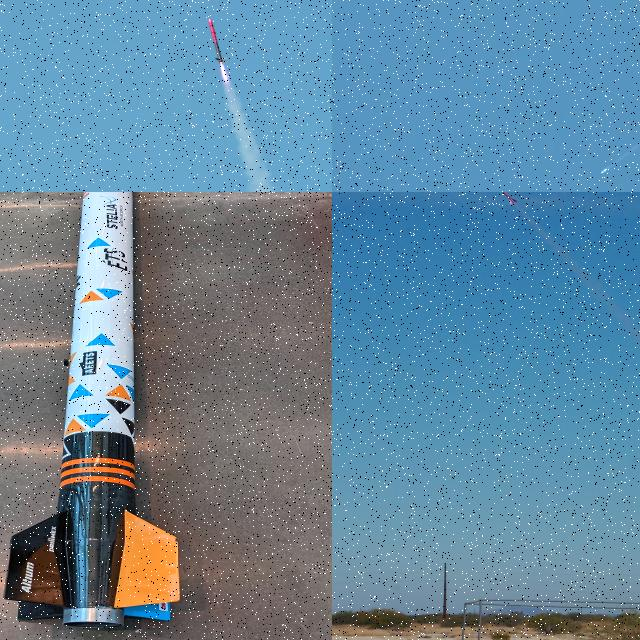Rocket: (3, 192, 180, 629), (208, 18, 228, 64), (493, 192, 518, 205), (600, 168, 607, 175)
